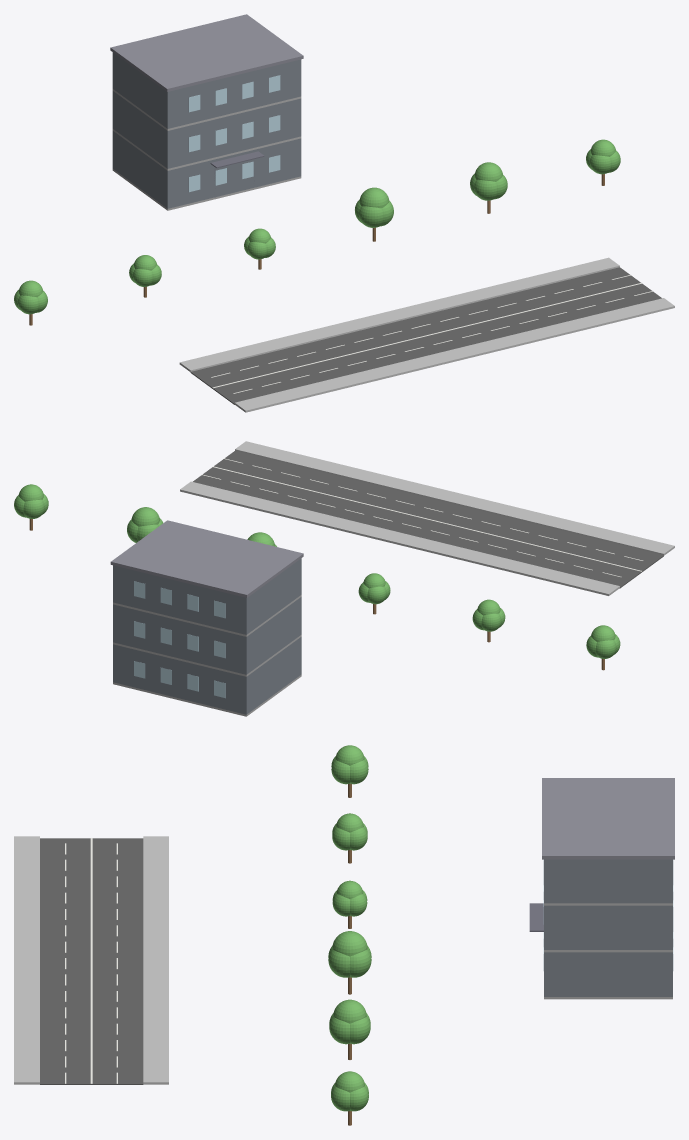
File: modern_building.gltf
3 views of the same model, one above another, from view 1: azimuth 30°, elevation 25°; view 2: azimuth 150°, elevation 25°; view 3: azimuth 270°, elevation 25° (orthographic). The views are drawn at different scales.
Parts seen in each view (by area): view 1: Road_Surface, Modern_Building_Roof, Sidewalk_-5.0, Sidewalk_5.0, Floor_2_Wall_Front, Floor_3_Wall_Front, Floor_1_Wall_Front, Floor_1_Wall_Left, Floor_2_Wall_Left, Floor_3_Wall_Left, Tree_3, Tree_4 (+5 smaller); view 2: Road_Surface, Modern_Building_Roof, Sidewalk_5.0, Sidewalk_-5.0, Floor_1_Wall_Back, Floor_2_Wall_Back, Floor_3_Wall_Back, Floor_1_Wall_Left, Floor_2_Wall_Left, Floor_3_Wall_Left, Tree_5, Tree_0 (+7 smaller); view 3: Road_Surface, Modern_Building_Roof, Sidewalk_-5.0, Sidewalk_5.0, Floor_1_Wall_Right, Floor_2_Wall_Right, Floor_3_Wall_Right, Tree_3, Tree_4, Tree_5, Tree_0, Tree_1 (+2 smaller).
Part boxes in pixels (left/top/right/bottom): Road_Surface: left=190, top=267, right=661, bottom=404; Modern_Building_Roof: left=110, top=14, right=303, bottom=91; Sidewalk_-5.0: left=234, top=298, right=674, bottom=412; Sidewalk_5.0: left=179, top=257, right=619, bottom=371; Floor_2_Wall_Front: left=167, top=98, right=301, bottom=168; Floor_3_Wall_Front: left=167, top=59, right=301, bottom=128; Floor_1_Wall_Front: left=167, top=138, right=301, bottom=208; Floor_1_Wall_Left: left=113, top=131, right=166, bottom=207; Floor_2_Wall_Left: left=113, top=92, right=166, bottom=167; Floor_3_Wall_Left: left=113, top=53, right=166, bottom=127; Tree_3: left=355, top=187, right=393, bottom=227; Tree_4: left=470, top=162, right=507, bottom=200; Road_Surface: left=193, top=451, right=663, bottom=588; Modern_Building_Roof: left=110, top=520, right=303, bottom=597; Sidewalk_5.0: left=180, top=481, right=619, bottom=595; Sidewalk_-5.0: left=235, top=441, right=674, bottom=555; Floor_1_Wall_Back: left=113, top=644, right=247, bottom=714; Floor_2_Wall_Back: left=113, top=604, right=247, bottom=674; Floor_3_Wall_Back: left=113, top=565, right=247, bottom=634; Floor_1_Wall_Left: left=247, top=637, right=300, bottom=713; Floor_2_Wall_Left: left=247, top=597, right=300, bottom=673; Floor_3_Wall_Left: left=247, top=559, right=300, bottom=633; Tree_5: left=14, top=484, right=48, bottom=518; Tree_0: left=586, top=625, right=620, bottom=658; Road_Surface: left=40, top=838, right=143, bottom=1084; Modern_Building_Roof: left=542, top=778, right=674, bottom=859; Sidewalk_-5.0: left=14, top=836, right=39, bottom=1084; Sidewalk_5.0: left=143, top=836, right=168, bottom=1084; Floor_1_Wall_Right: left=545, top=952, right=670, bottom=996; Floor_2_Wall_Right: left=545, top=905, right=670, bottom=949; Floor_3_Wall_Right: left=545, top=859, right=670, bottom=903; Tree_3: left=328, top=931, right=371, bottom=977; Tree_4: left=329, top=999, right=370, bottom=1044; Tree_5: left=331, top=1071, right=368, bottom=1111; Tree_0: left=331, top=745, right=368, bottom=784; Tree_1: left=332, top=813, right=367, bottom=850.
Size of the model in its own units: 62.91 by 12.4 by 51.15.
